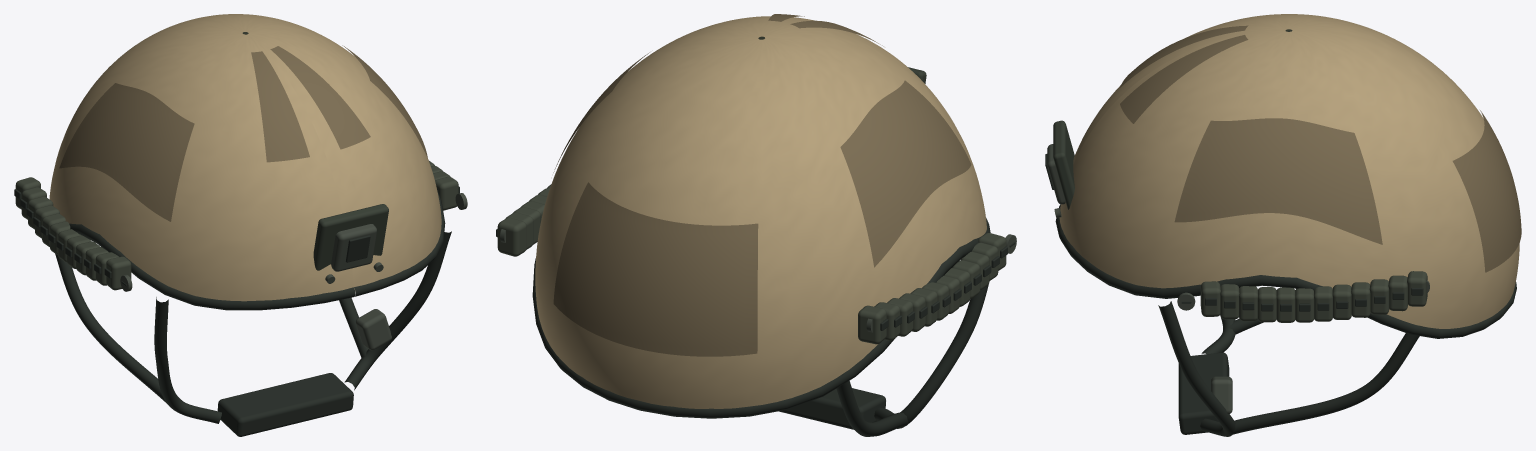
The model's file is atlas-sand.glb.
3 views of the same model, side by side, from view 1: azimuth 30°, elevation 25°; view 2: azimuth 150°, elevation 25°; view 3: azimuth 270°, elevation 25° (orthographic). The views are drawn at different scales.
Parts seen in each view (by area): view 1: Exterior shell, Loop panel (×4), Chin cup, Chin strap (×2), Continuous rim, Rear retention strap (×2), ATLAS original demonstrator, Front mount, Accessory rail (×2), Strap buckle; view 2: Exterior shell, Loop panel (×2), Continuous rim, Accessory rail (×3), Chin strap, Chin cup, Rear retention strap, ATLAS original demonstrator; view 3: Exterior shell, Loop panel (×4), Accessory rail (×12), Continuous rim, Rear retention strap, Chin strap (×2), Chin cup, ATLAS original demonstrator, Front mount, Strap buckle.
Boxes of the visible parts, x1,y1,x2,y2 form: Exterior shell: (49,14,441,301); Loop panel (×4): (59,45,427,221); Chin cup: (217,373,353,436); Chin strap (×2): (154,231,451,423); Continuous rim: (69,191,445,310); Rear retention strap (×2): (55,253,368,403); ATLAS original demonstrator: (14,186,459,286); Front mount: (313,204,388,270); Accessory rail (×2): (106,176,458,290); Strap buckle: (356,309,391,350); Exterior shell: (535,16,986,408); Loop panel (×2): (553,80,971,356); Continuous rim: (532,218,990,418); Accessory rail (×3): (497,217,900,344); Chin strap: (874,284,988,428); Chin cup: (779,388,885,429); Rear retention strap: (836,374,908,436); ATLAS original demonstrator: (496,229,1015,330); Exterior shell: (1059,14,1519,328); Loop panel (×4): (1120,25,1521,272); Accessory rail (×12): (1200,271,1427,322); Continuous rim: (1055,204,1516,338); Rear retention strap: (1231,326,1423,434); Chin strap (×2): (1158,301,1235,436); Chin cup: (1178,352,1229,434); ATLAS original demonstrator: (1045,144,1423,311); Front mount: (1053,120,1074,209); Strap buckle: (1211,376,1232,413).
Bounding box in the file's own units: 2.22 × 2.1 × 2.41.
